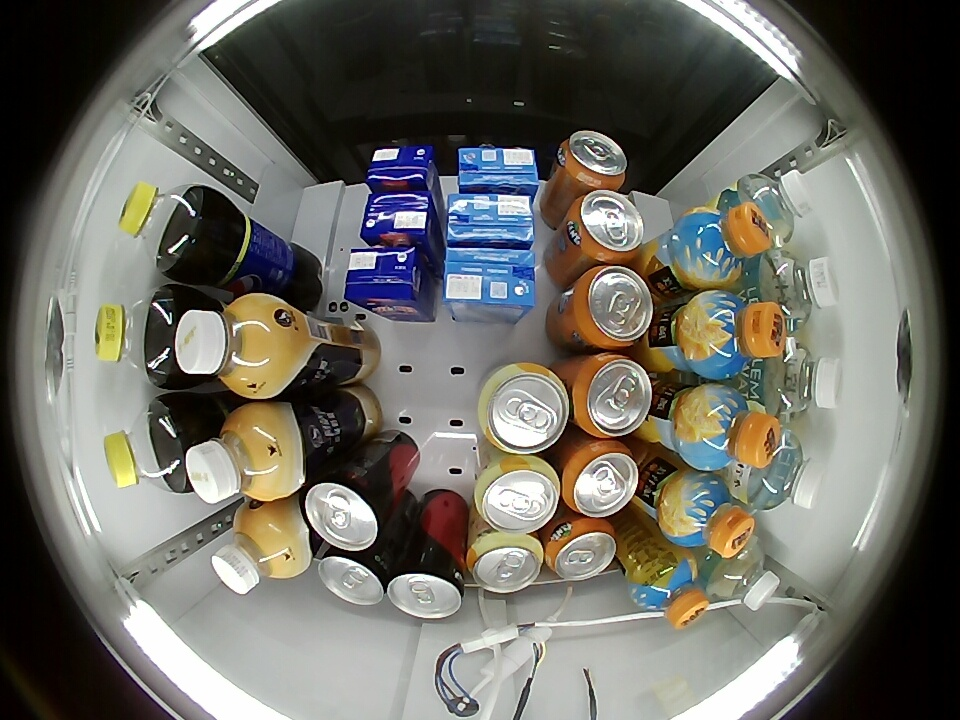asamu: (173, 293, 280, 396), (184, 406, 289, 505), (211, 505, 299, 595)
baishikele: (102, 396, 190, 494), (94, 287, 179, 387), (118, 181, 203, 274)
bingqilinniunai: (344, 247, 430, 316), (360, 192, 437, 249), (366, 144, 437, 195)
fenda: (573, 265, 654, 350), (573, 353, 653, 438), (562, 440, 640, 518), (568, 189, 645, 264), (546, 519, 617, 581), (557, 130, 628, 189)
guolicheng: (683, 291, 788, 379), (675, 202, 772, 290), (682, 384, 780, 470), (662, 472, 756, 556), (629, 552, 708, 629)
lingdukele: (303, 464, 390, 551), (388, 552, 463, 620), (317, 544, 390, 606)
mangguoxiaolao: (479, 362, 570, 454), (474, 455, 560, 534), (467, 532, 544, 595)
qinningshui: (760, 250, 840, 329), (750, 432, 823, 512), (704, 539, 781, 614), (734, 169, 813, 242), (770, 340, 842, 418)
weitanai: (443, 245, 536, 320), (446, 193, 535, 248), (457, 146, 541, 196)
